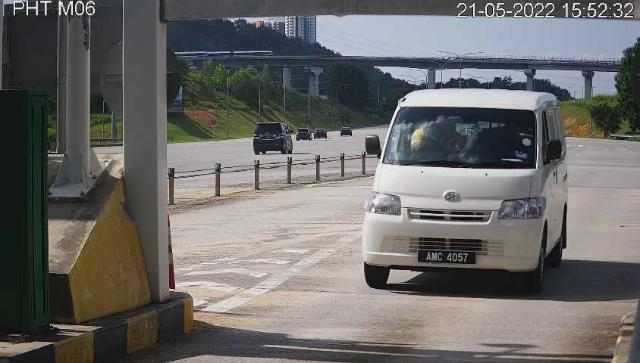License_Plate: (418, 250, 479, 268)
van: (363, 90, 569, 290)
